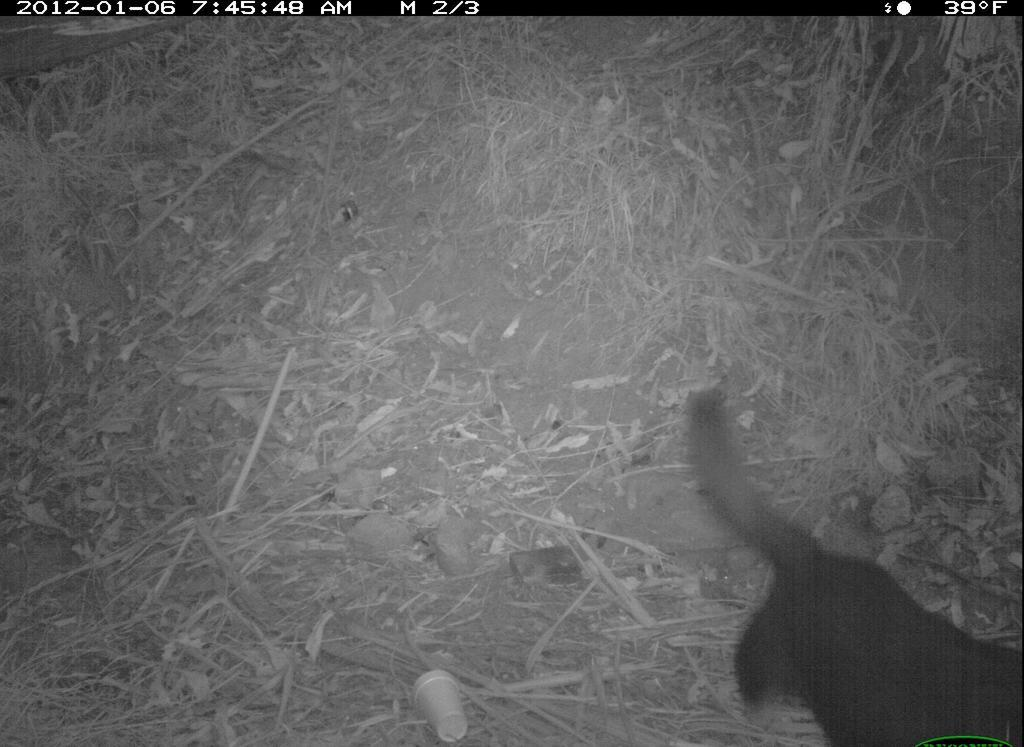dog: (658, 354, 1022, 747)
